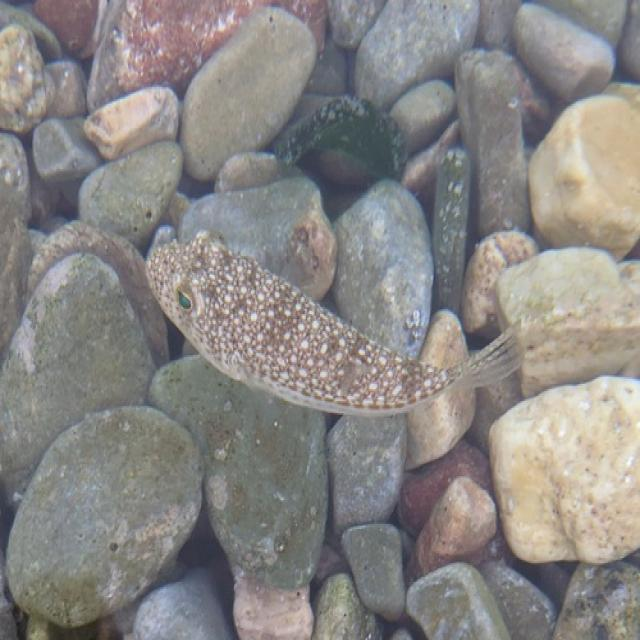Balik: (148, 233, 519, 416)
